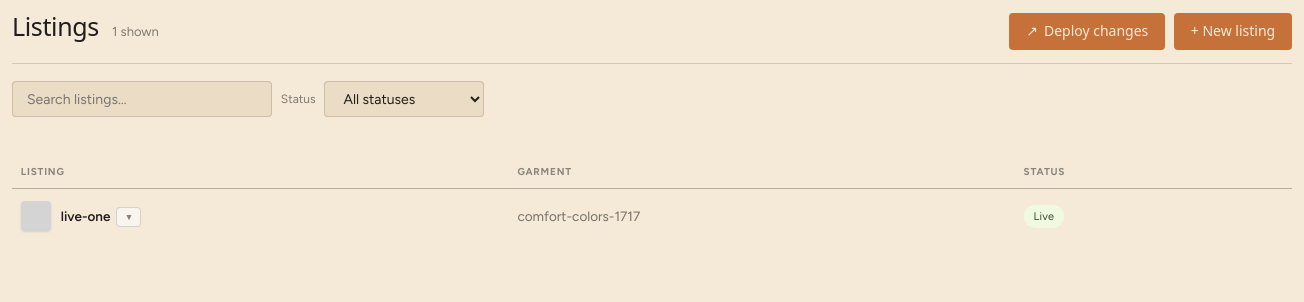
Test: ListingsPage › closes the open-on menu when clicking away
Click the button named "Open in Etsy or Printify".
click(129, 217)  # box [116, 207, 141, 227]
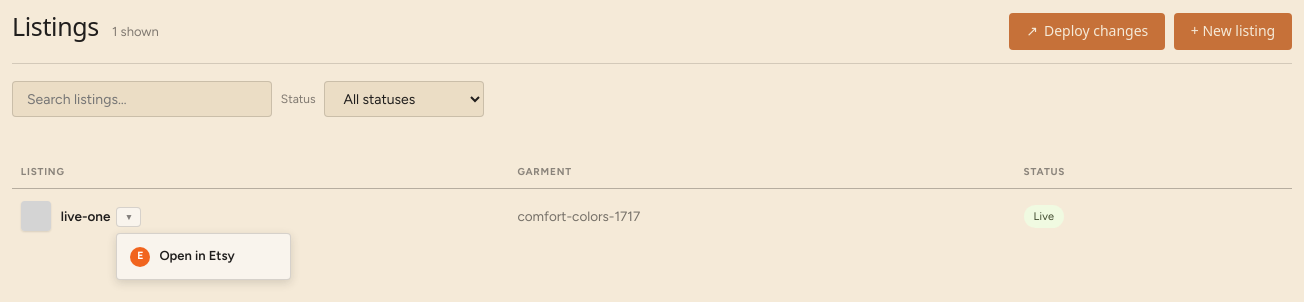
Expected: the link "E Open in Etsy" is shown, [130, 246, 235, 266]
Press the mouse on the element that starts with "Listings" at (652, 128), box [12, 12, 1292, 243]
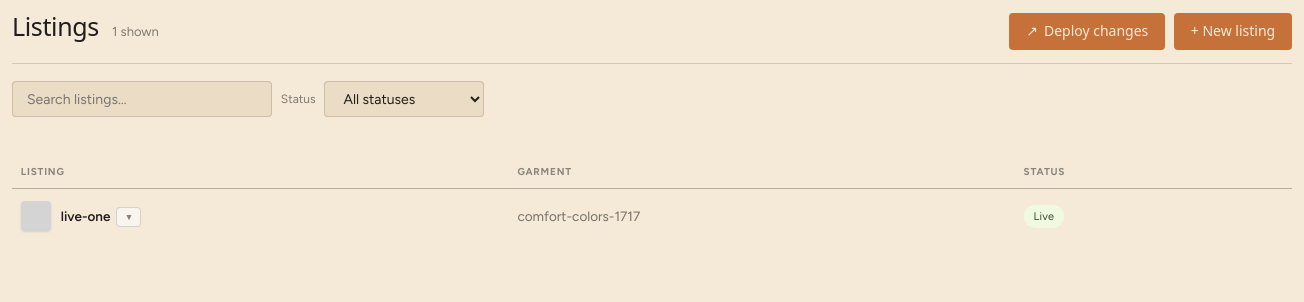
Expected: the link "Open in Etsy" is gone
